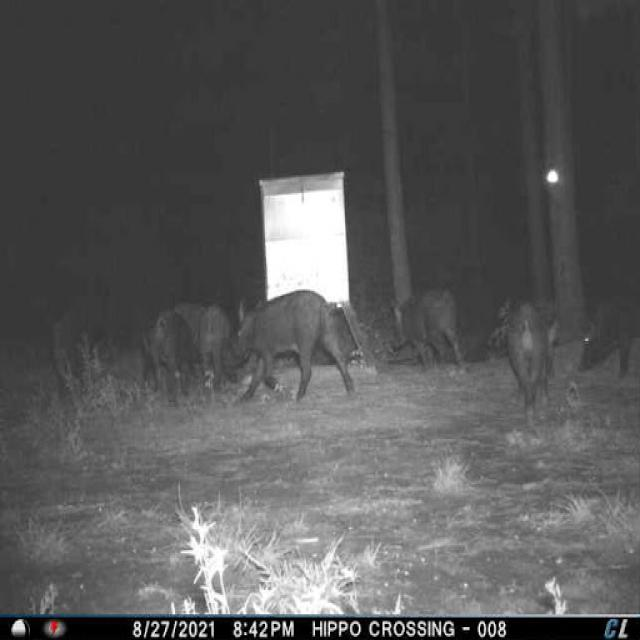wild boar: (229, 293, 360, 413), (383, 283, 468, 373), (148, 307, 198, 410), (504, 307, 550, 405), (580, 312, 640, 384), (195, 296, 234, 405)
